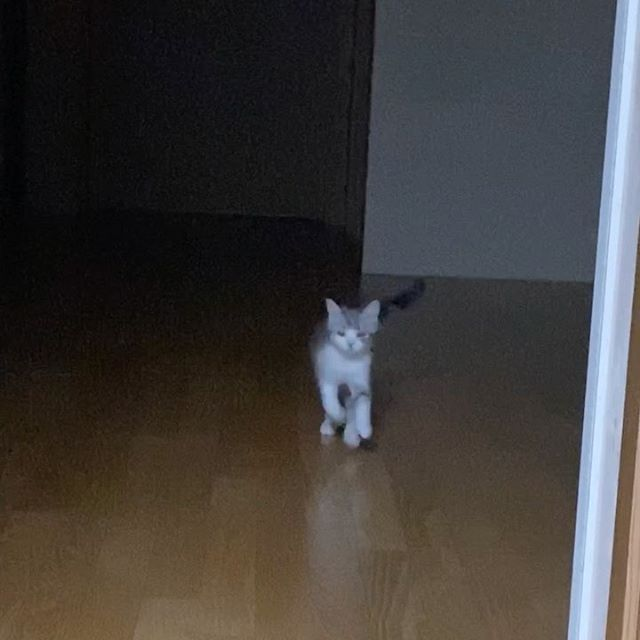cat: (317, 294, 383, 361)
